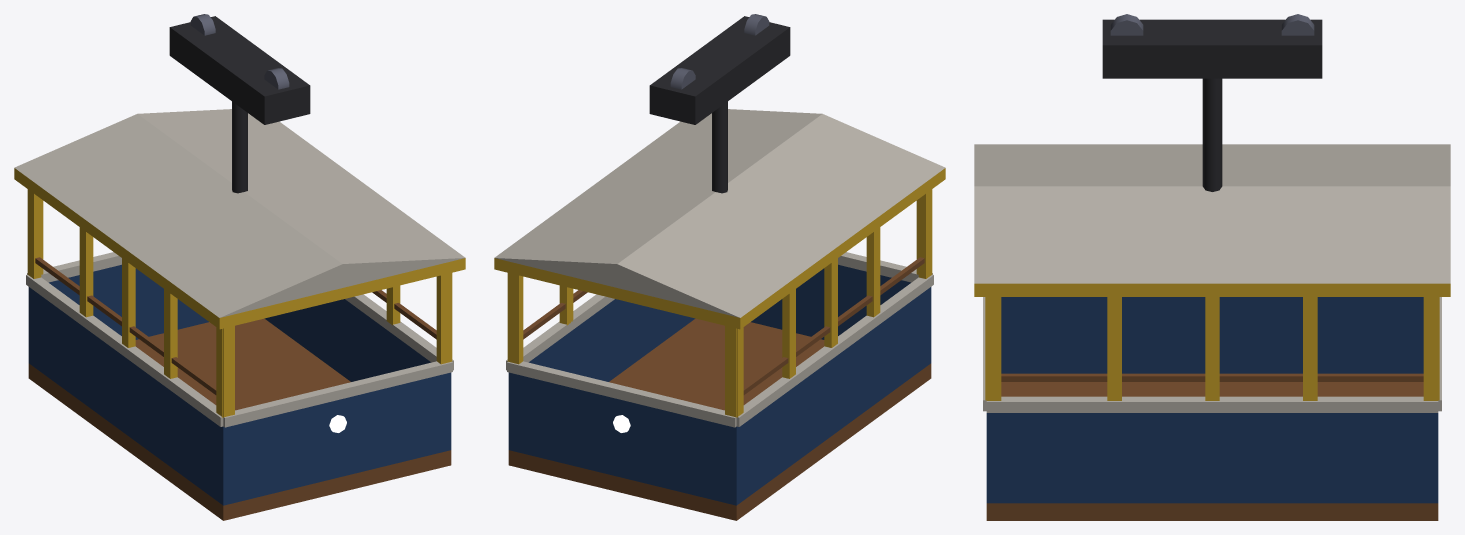
Rendered from teleferico.glb.
3 views of the same model, side by side, from view 1: azimuth 30°, elevation 25°; view 2: azimuth 150°, elevation 25°; view 3: azimuth 270°, elevation 25° (orthographic). The views are drawn at different scales.
Visible parts, largest first — view 1: teleferico_Malla; view 2: teleferico_Malla; view 3: teleferico_Malla.
Boxes of the visible parts, x1,y1,x2,y2 form: teleferico_Malla: [14, 14, 465, 520]; teleferico_Malla: [494, 14, 945, 520]; teleferico_Malla: [974, 14, 1450, 520].
Size of the model in its own units: 2.7 by 3.97 by 3.9.
